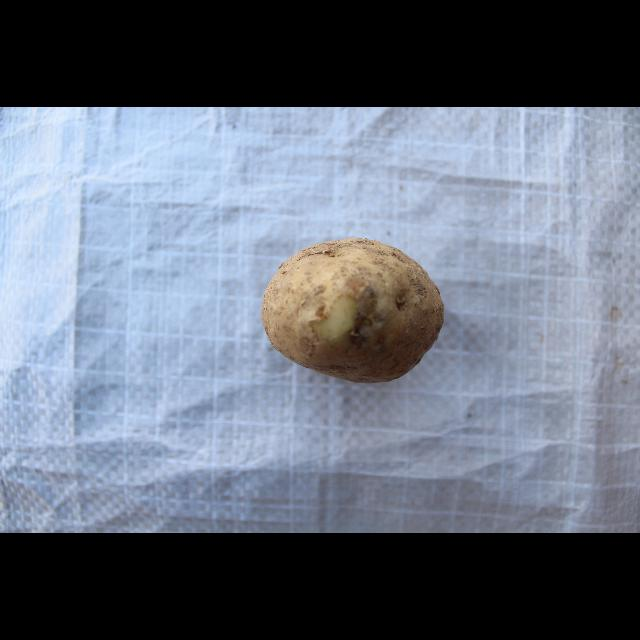Diseased-fungal potato: (248, 232, 450, 386)
